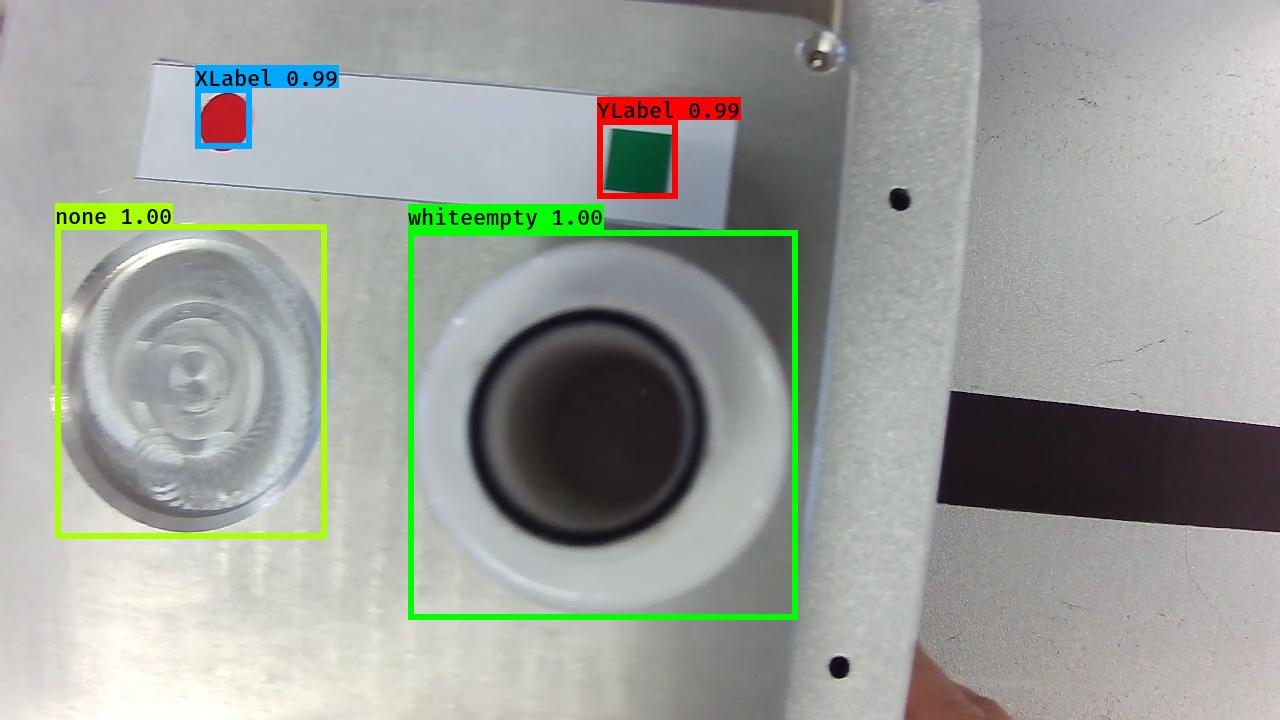XLabel: (193, 90, 253, 155)
YLabel: (604, 125, 676, 203)
none: (43, 221, 336, 534)
whiteempty: (409, 237, 793, 620)
